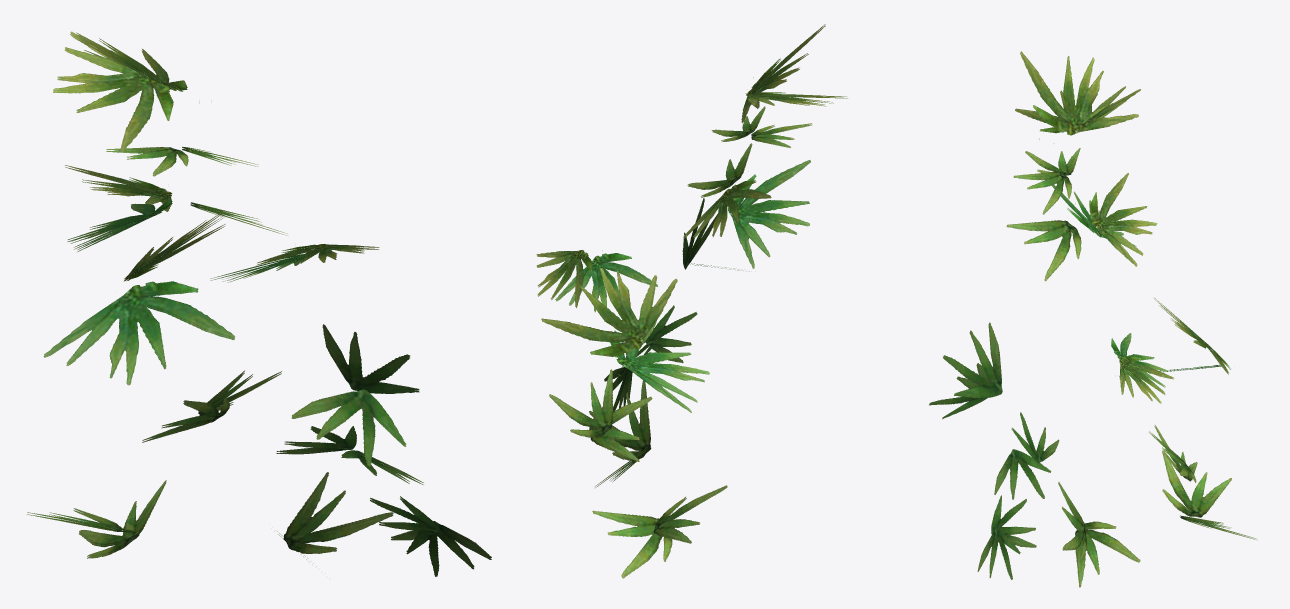
The model's file is Area_06_15.fbx.
The picture shows the model from 3 angles, left to right: view 1: azimuth 30°, elevation 25°; view 2: azimuth 150°, elevation 25°; view 3: azimuth 270°, elevation 25°; orthographic projection. The views are drawn at different scales.
Parts seen in each view (by area): view 1: Area_06_15; view 2: Area_06_15; view 3: Area_06_15.
Boxes of the visible parts, x1,y1,x2,y2 form: Area_06_15: (27,31,491,576); Area_06_15: (536,24,847,578); Area_06_15: (929,51,1257,587).
Size of the model in its own units: 1654 by 2555 by 1744.
